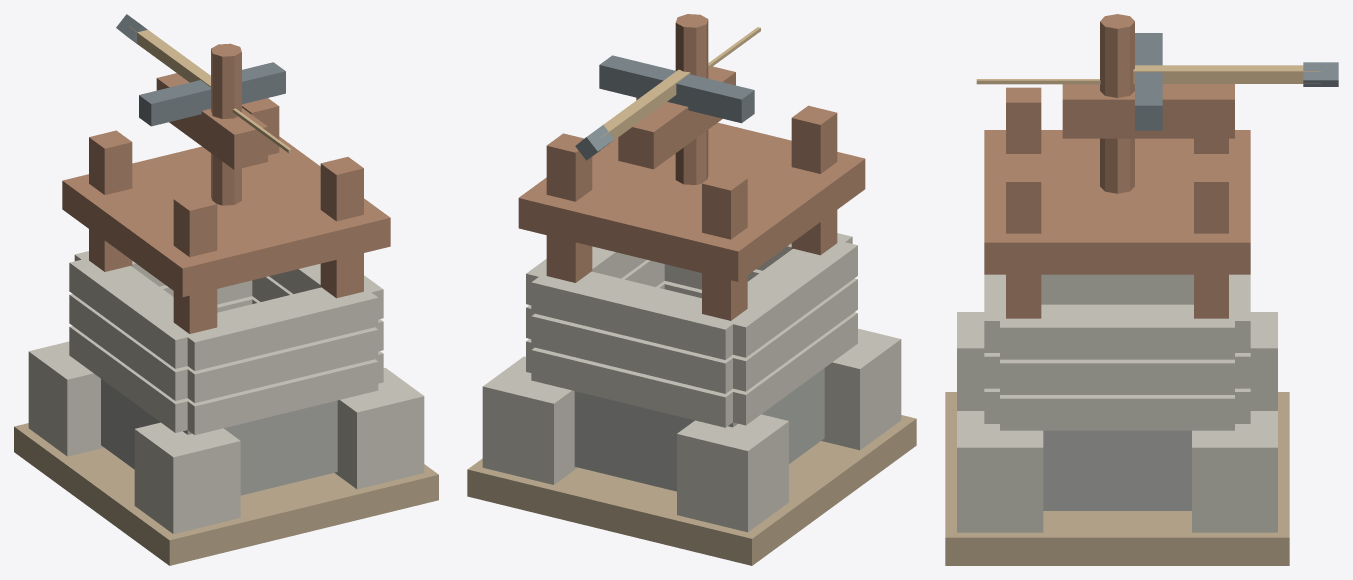
File: arrow_tower_v5.glb
3 views of the same model, side by side, from view 1: azimuth 30°, elevation 25°; view 2: azimuth 150°, elevation 25°; view 3: azimuth 270°, elevation 25° (orthographic). The views are drawn at different scales.
Parts seen in each view (by area): view 1: platform, single_cell_base, stone_corner.001, tower_body, wall_block_back.002, stone_corner.003, stone_corner, wall_block_left.002, wall_block_back, wall_block_back.001, wood_post.002, wood_post.003 (+11 smaller); view 2: platform, single_cell_base, stone_corner, tower_body, wall_block_front.002, stone_corner.002, stone_corner.001, wall_block_left.002, wall_block_front, wall_block_front.001, crossbow_arm, wood_post (+11 smaller); view 3: platform, single_cell_base, tower_body, wall_block_right.002, stone_corner.003, stone_corner.002, wall_block_right, wall_block_right.001, crossbow_stock, wall_block_left.001, tower_pole, wood_post.003 (+15 smaller).
Part boxes in pixels (left/top/right/bottom): platform: left=62, top=136, right=390, bottom=297; single_cell_base: left=14, top=423, right=438, bottom=565; stone_corner.001: left=134, top=422, right=240, bottom=533; tower_body: left=101, top=304, right=337, bottom=495; wall_block_back.002: left=174, top=287, right=378, bottom=370; stone_corner.003: left=334, top=367, right=424, bottom=489; stone_corner: left=28, top=341, right=103, bottom=456; wall_block_left.002: left=69, top=258, right=201, bottom=368; wall_block_back: left=185, top=359, right=378, bottom=434; wall_block_back.001: left=185, top=327, right=378, bottom=402; wood_post.002: left=173, top=192, right=217, bottom=333; wood_post.003: left=320, top=157, right=363, bottom=298; platform: left=518, top=122, right=865, bottom=281; single_cell_base: left=467, top=415, right=916, bottom=565; stone_corner: left=677, top=414, right=788, bottom=532; tower_body: left=574, top=289, right=824, bottom=491; wall_block_front.002: left=531, top=271, right=750, bottom=359; stone_corner.002: left=482, top=356, right=577, bottom=484; stone_corner.001: left=821, top=328, right=901, bottom=450; wall_block_left.002: left=701, top=240, right=857, bottom=357; wall_block_front: left=531, top=347, right=732, bottom=427; wall_block_front.001: left=531, top=313, right=732, bottom=393; crossbow_arm: left=599, top=55, right=754, bottom=123; wood_post: left=702, top=171, right=747, bottom=320; platform: left=984, top=130, right=1250, bottom=274; single_cell_base: left=945, top=392, right=1289, bottom=565; tower_body: left=1043, top=430, right=1191, bottom=510; wall_block_right.002: left=1000, top=304, right=1234, bottom=359; stone_corner.003: left=957, top=411, right=1043, bottom=532; stone_corner.002: left=1192, top=411, right=1277, bottom=532; wall_block_right: left=1000, top=395, right=1234, bottom=430; wall_block_right.001: left=1000, top=359, right=1234, bottom=394; crossbow_stock: left=1062, top=84, right=1234, bottom=138; wall_block_left.001: left=1041, top=274, right=1193, bottom=304; tower_pole: left=1100, top=14, right=1134, bottom=193; wood_post.003: left=1006, top=167, right=1041, bottom=318.
Size of the model in its own units: 0.88 by 1.33 by 1.
